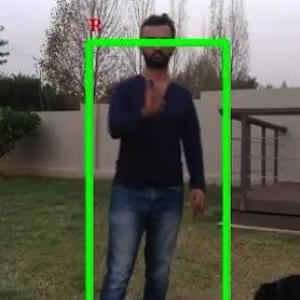takeoff-hand: (140, 69, 170, 118)
